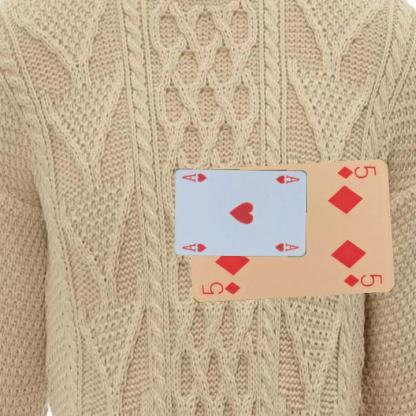5d: (334, 163, 378, 181), (199, 279, 241, 296)
Ah: (180, 240, 207, 253), (274, 172, 300, 185)
